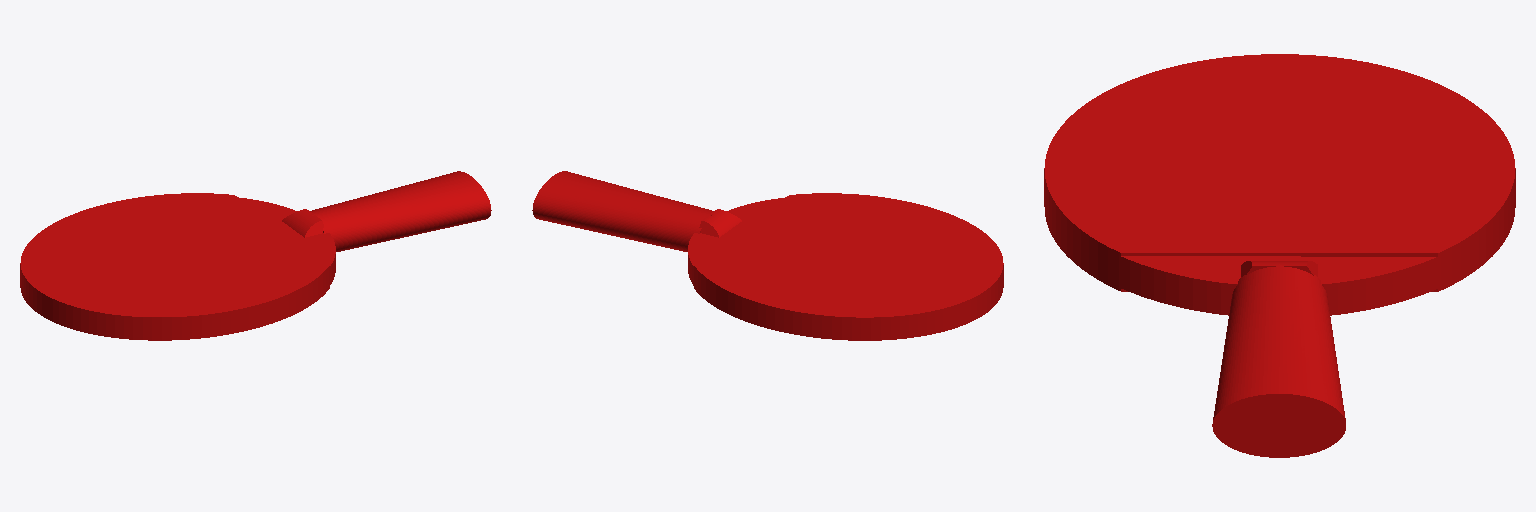
The robot description file, URDF, robot "g1_dual_arm":
<robot name="g1_dual_arm">
  <material name="dark">
    <color rgba="0.2 0.2 0.2 1"/>
  </material>
  <material name="white">
    <color rgba="0.7 0.7 0.7 1"/>
  </material>

  <mujoco>
    <compiler meshdir="meshes" discardvisual="false"/>
  </mujoco>

  <!-- [CAUTION] uncomment when convert to mujoco -->
  <!-- <link name="world"></link>
  <joint name="floating_base_joint" type="floating">
    <parent link="world"/>
    <child link="waist_yaw_link"/>
  </joint> -->

  <!-- Torso -->
  <link name="waist_yaw_link">
    <inertial>
      <origin xyz="0.003964 0 0.018769" rpy="0 0 0"/>
      <mass value="0.244"/>
      <inertia ixx="9.9587E-05" ixy="-1.833E-06" ixz="-1.2617E-05" iyy="0.00012411" iyz="-1.18E-07" izz="0.00015586"/>
    </inertial>
    <visual>
      <origin xyz="0 0 0" rpy="0 0 0"/>
      <geometry>
        <mesh filename="package://g1_description/meshes/waist_yaw_link.STL"/>
      </geometry>
      <material name="white"/>
    </visual>
  </link>
  <link name="waist_roll_link">
    <inertial>
      <origin xyz="0 -0.000236 0.010111" rpy="0 0 0"/>
      <mass value="0.047"/>
      <inertia ixx="7.515E-06" ixy="0" ixz="0" iyy="6.398E-06" iyz="9.9E-08" izz="3.988E-06"/>
    </inertial>
    <visual>
      <origin xyz="0 0 0" rpy="0 0 0"/>
      <geometry>
        <mesh filename="package://g1_description/meshes/waist_roll_link.STL"/>
      </geometry>
      <material name="white"/>
    </visual>
  </link>
  <joint name="waist_roll_joint" type="fixed">
    <origin xyz="-0.0039635 0 0.035" rpy="0 0 0"/>
    <parent link="waist_yaw_link"/>
    <child link="waist_roll_link"/>
    <axis xyz="1 0 0"/>
    <limit lower="-0.52" upper="0.52" effort="35" velocity="30"/>
  </joint>
  <link name="torso_link">
    <inertial>
      <origin xyz="0.002601 0.000257 0.153719" rpy="0 0 0"/>
      <mass value="8.562"/>
      <inertia ixx="0.065674966" ixy="-8.597E-05" ixz="-0.001737252" iyy="0.053535188" iyz="8.6899E-05" izz="0.030808125"/>
    </inertial>
    <visual>
      <origin xyz="0 0 0" rpy="0 0 0"/>
      <geometry>
        <mesh filename="package://g1_description/meshes/torso_link.STL"/>
      </geometry>
      <material name="white"/>
    </visual>
    <collision>
      <origin xyz="0 0 0" rpy="0 0 0"/>
      <geometry>
        <mesh filename="package://g1_description/meshes/torso_link.STL"/>
      </geometry>
    </collision>
  </link>
  <joint name="waist_pitch_joint" type="fixed">
    <origin xyz="0 0 0.019" rpy="0 0 0"/>
    <parent link="waist_roll_link"/>
    <child link="torso_link"/>
    <axis xyz="0 1 0"/>
    <limit lower="-0.52" upper="0.52" effort="35" velocity="30"/>
  </joint>

  <!-- LOGO -->
  <joint name="logo_joint" type="fixed">
    <origin xyz="0.0039635 0 -0.054" rpy="0 0 0"/>
    <parent link="torso_link"/>
    <child link="logo_link"/>
  </joint>
  <link name="logo_link">
    <inertial>
      <origin xyz="0 0 0" rpy="0 0 0"/>
      <mass value="0.001"/>
      <inertia ixx="1e-7" ixy="0" ixz="0" iyy="1e-7" iyz="0" izz="1e-7"/>
    </inertial>
    <visual>
      <origin xyz="0 0 0" rpy="0 0 0"/>
      <geometry>
        <mesh filename="package://g1_description/meshes/logo_link.STL"/>
      </geometry>
      <material name="dark"/>
    </visual>
    <collision>
      <origin xyz="0 0 0" rpy="0 0 0"/>
      <geometry>
        <mesh filename="package://g1_description/meshes/logo_link.STL"/>
      </geometry>
    </collision>
  </link>

  <!-- Head -->
  <link name="head_link">
    <inertial>
      <origin xyz="0.005267 0.000299 0.449869" rpy="0 0 0"/>
      <mass value="1.036"/>
      <inertia ixx="0.004085051" ixy="-2.543E-06" ixz="-6.9455E-05" iyy="0.004185212" iyz="-3.726E-06" izz="0.001807911"/>
    </inertial>
    <visual>
      <origin xyz="0 0 0" rpy="0 0 0"/>
      <geometry>
        <mesh filename="package://g1_description/meshes/head_link.STL"/>
      </geometry>
      <material name="dark"/>
    </visual>
    <collision>
      <origin xyz="0 0 0" rpy="0 0 0"/>
      <geometry>
        <mesh filename="package://g1_description/meshes/head_link.STL"/>
      </geometry>
    </collision>
  </link>
  <joint name="head_joint" type="fixed">
    <origin xyz="0.0039635 0 -0.054" rpy="0 0 0"/>
    <parent link="torso_link"/>
    <child link="head_link"/>
  </joint>

  <!-- Waist Support -->
  <link name="waist_support_link">
    <inertial>
      <origin xyz="0 0 0" rpy="0 0 0"/>
      <mass value="0.001"/>
      <inertia ixx="1e-7" ixy="0" ixz="0" iyy="1e-7" iyz="0" izz="1e-7"/>
    </inertial>
    <visual>
      <origin xyz="0 0 0" rpy="0 0 0"/>
      <geometry>
        <mesh filename="package://g1_description/meshes/waist_support_link.STL"/>
      </geometry>
      <material name="white"/>
    </visual>
    <collision>
      <origin xyz="0 0 0" rpy="0 0 0"/>
      <geometry>
        <mesh filename="package://g1_description/meshes/waist_support_link.STL"/>
      </geometry>
    </collision>
  </link>
  <joint name="waist_support_joint" type="fixed">
    <origin xyz="0.0039635 0 -0.054" rpy="0 0 0"/>
    <parent link="torso_link"/>
    <child link="waist_support_link"/>
  </joint>

  <!-- IMU -->
  <link name="imu_in_torso"></link>
  <joint name="imu_in_torso_joint" type="fixed">
    <origin xyz="-0.03959 -0.00224 0.13792" rpy="0 0 0"/>
    <parent link="torso_link"/>
    <child link="imu_in_torso"/>
  </joint>

  <link name="imu_in_pelvis"></link>
  <joint name="imu_in_pelvis_joint" type="fixed">
    <origin xyz="0.04525 0 -0.08339" rpy="0 0 0"/>
    <parent link="waist_yaw_link"/>
    <child link="imu_in_pelvis"/>
  </joint>

  <!-- d435 -->
  <link name="d435_link"></link>
  <joint name="d435_joint" type="fixed">
    <origin xyz="0.0576235 0.01753 0.41987" rpy="0 0.8307767239493009 0"/>
    <parent link="torso_link"/>
    <child link="d435_link"/>
  </joint>

  <!-- mid360 -->
  <link name="mid360_link"></link>
  <joint name="mid360_joint" type="fixed">
    <origin xyz="0.0002835 0.00003 0.40618" rpy="0 0.04014257279586953 0"/>
    <parent link="torso_link"/>
    <child link="mid360_link"/>
  </joint>

  <!-- Arm -->
  <link name="left_shoulder_pitch_link">
    <inertial>
      <origin xyz="0 0.035892 -0.011628" rpy="0 0 0"/>
      <mass value="0.718"/>
      <inertia ixx="0.0004291" ixy="-9.2E-06" ixz="6.4E-06" iyy="0.000453" iyz="2.26E-05" izz="0.000423"/>
    </inertial>
    <visual>
      <origin xyz="0 0 0" rpy="0 0 0"/>
      <geometry>
        <mesh filename="package://g1_description/meshes/left_shoulder_pitch_link.STL"/>
      </geometry>
      <material name="white"/>
    </visual>
    <collision>
      <origin xyz="0 0.04 -0.01" rpy="0 1.5707963267948966 0"/>
      <geometry>
        <cylinder radius="0.03" length="0.05"/>
      </geometry>
    </collision>
  </link>
  <joint name="left_shoulder_pitch_joint" type="revolute">
    <origin xyz="0.0039563 0.10022 0.23778" rpy="0.27931 5.4949E-05 -0.00019159"/>
    <parent link="torso_link"/>
    <child link="left_shoulder_pitch_link"/>
    <axis xyz="0 1 0"/>
    <limit lower="-3.0892" upper="2.6704" effort="25" velocity="37"/>
  </joint>
  <link name="left_shoulder_roll_link">
    <inertial>
      <origin xyz="-0.000227 0.00727 -0.063243" rpy="0 0 0"/>
      <mass value="0.643"/>
      <inertia ixx="0.0006177" ixy="-1E-06" ixz="8.7E-06" iyy="0.0006912" iyz="-5.3E-06" izz="0.0003894"/>
    </inertial>
    <visual>
      <origin xyz="0 0 0" rpy="0 0 0"/>
      <geometry>
        <mesh filename="package://g1_description/meshes/left_shoulder_roll_link.STL"/>
      </geometry>
      <material name="white"/>
    </visual>
    <collision>
      <origin xyz="-0.004 0.006 -0.053" rpy="0 0 0"/>
      <geometry>
        <cylinder radius="0.03" length="0.03"/>
      </geometry>
    </collision>
  </link>
  <joint name="left_shoulder_roll_joint" type="revolute">
    <origin xyz="0 0.038 -0.013831" rpy="-0.27925 0 0"/>
    <parent link="left_shoulder_pitch_link"/>
    <child link="left_shoulder_roll_link"/>
    <axis xyz="1 0 0"/>
    <limit lower="-1.5882" upper="2.2515" effort="25" velocity="37"/>
  </joint>
  <link name="left_shoulder_yaw_link">
    <inertial>
      <origin xyz="0.010773 -0.002949 -0.072009" rpy="0 0 0"/>
      <mass value="0.734"/>
      <inertia ixx="0.0009988" ixy="7.9E-06" ixz="0.0001412" iyy="0.0010605" iyz="-2.86E-05" izz="0.0004354"/>
    </inertial>
    <visual>
      <origin xyz="0 0 0" rpy="0 0 0"/>
      <geometry>
        <mesh filename="package://g1_description/meshes/left_shoulder_yaw_link.STL"/>
      </geometry>
      <material name="white"/>
    </visual>
    <collision>
      <origin xyz="0 0 0" rpy="0 0 0"/>
      <geometry>
        <mesh filename="package://g1_description/meshes/left_shoulder_yaw_link.STL"/>
      </geometry>
    </collision>
  </link>
  <joint name="left_shoulder_yaw_joint" type="revolute">
    <origin xyz="0 0.00624 -0.1032" rpy="0 0 0"/>
    <parent link="left_shoulder_roll_link"/>
    <child link="left_shoulder_yaw_link"/>
    <axis xyz="0 0 1"/>
    <limit lower="-2.618" upper="2.618" effort="25" velocity="37"/>
  </joint>
  <link name="left_elbow_link">
    <inertial>
      <origin xyz="0.064956 0.004454 -0.010062" rpy="0 0 0"/>
      <mass value="0.6"/>
      <inertia ixx="0.0002891" ixy="6.53E-05" ixz="1.72E-05" iyy="0.0004152" iyz="-5.6E-06" izz="0.0004197"/>
    </inertial>
    <visual>
      <origin xyz="0 0 0" rpy="0 0 0"/>
      <geometry>
        <mesh filename="package://g1_description/meshes/left_elbow_link.STL"/>
      </geometry>
      <material name="white"/>
    </visual>
    <collision>
      <origin xyz="0 0 0" rpy="0 0 0"/>
      <geometry>
        <mesh filename="package://g1_description/meshes/left_elbow_link.STL"/>
      </geometry>
    </collision>
  </link>
  <joint name="left_elbow_joint" type="revolute">
    <origin xyz="0.015783 0 -0.080518" rpy="0 0 0"/>
    <parent link="left_shoulder_yaw_link"/>
    <child link="left_elbow_link"/>
    <axis xyz="0 1 0"/>
    <limit lower="-1.0472" upper="2.0944" effort="25" velocity="37"/>
  </joint>
  <joint name="left_wrist_roll_joint" type="revolute">
    <origin xyz="0.100 0.00188791 -0.010" rpy="0 0 0"/>
    <axis xyz="1 0 0"/>
    <parent link="left_elbow_link"/>
    <child link="left_wrist_roll_link"/>
    <limit effort="25" velocity="37" lower="-1.972222054" upper="1.972222054"/>
  </joint>
  <link name="left_wrist_roll_link">
    <inertial>
      <origin xyz="0.01713944778 0.00053759094 0.00000048864" rpy="0 0 0"/>
      <mass value="0.08544498"/>
      <inertia ixx="0.00004821544023" ixy="-0.00000424511021" ixz="0.00000000510599" iyy="0.00003722899093" iyz="-0.00000000123525" izz="0.00005482106541"/>
    </inertial>
    <visual>
      <origin xyz="0 0 0" rpy="0 0 0"/>
      <geometry>
        <mesh filename="package://g1_description/meshes/left_wrist_roll_link.STL"/>
      </geometry>
      <material name="white"/>
    </visual>
    <collision>
      <origin xyz="0 0 0" rpy="0 0 0"/>
      <geometry>
        <mesh filename="package://g1_description/meshes/left_wrist_roll_link.STL"/>
      </geometry>
    </collision>
  </link>
  <joint name="left_wrist_pitch_joint" type="revolute">
    <origin xyz="0.038 0 0" rpy="0 0 0"/>
    <axis xyz="0 1 0"/>
    <parent link="left_wrist_roll_link"/>
    <child link="left_wrist_pitch_link"/>
    <limit effort="5" velocity="22" lower="-1.614429558" upper="1.614429558"/>
  </joint>
  <link name="left_wrist_pitch_link">
    <inertial>
      <origin xyz="0.02299989837 -0.00111685314 -0.00111658096" rpy="0 0 0"/>
      <mass value="0.48404956"/>
      <inertia ixx="0.00016579646273" ixy="-0.00001231206746" ixz="0.00001231699194" iyy="0.00042954057410" iyz="0.00000081417712" izz="0.00042953697654"/>
    </inertial>
    <visual>
      <origin xyz="0 0 0" rpy="0 0 0"/>
      <geometry>
        <mesh filename="package://g1_description/meshes/left_wrist_pitch_link.STL"/>
      </geometry>
      <material name="white"/>
    </visual>
    <collision>
      <origin xyz="0 0 0" rpy="0 0 0"/>
      <geometry>
        <mesh filename="package://g1_description/meshes/left_wrist_pitch_link.STL"/>
      </geometry>
    </collision>
  </link>
  <joint name="left_wrist_yaw_joint" type="revolute">
    <origin xyz="0.046 0 0" rpy="0 0 0"/>
    <axis xyz="0 0 1"/>
    <parent link="left_wrist_pitch_link"/>
    <child link="left_wrist_yaw_link"/>
    <limit effort="5" velocity="22" lower="-1.614429558" upper="1.614429558"/>
  </joint>
  <link name="left_wrist_yaw_link">
    <inertial>
      <origin xyz="0.02200381568 0.00049485096 0.00053861123" rpy="0 0 0"/>
      <mass value="0.08457647"/>
      <inertia ixx="0.00004929128828" ixy="-0.00000045735494" ixz="0.00000445867591" iyy="0.00005973338134" iyz="0.00000043217198" izz="0.00003928083826"/>
    </inertial>
    <visual>
      <origin xyz="0 0 0" rpy="0 0 0"/>
      <geometry>
        <mesh filename="package://g1_description/meshes/left_wrist_yaw_link.STL"/>
      </geometry>
      <material name="white"/>
    </visual>
    <collision>
      <origin xyz="0 0 0" rpy="0 0 0"/>
      <geometry>
        <mesh filename="package://g1_description/meshes/left_wrist_yaw_link.STL"/>
      </geometry>
    </collision>
  </link>
  <joint name="left_hand_palm_joint" type="fixed">
    <origin xyz="0.0415 0.003 0" rpy="0 0 0"/>
    <parent link="left_wrist_yaw_link"/>
    <child link="left_rubber_hand"/>
  </joint>
  <link name="left_rubber_hand">
    <inertial>
      <origin xyz="0.05361310808 -0.00295905240 0.00215413091" rpy="0 0 0"/>
      <mass value="0.170"/>
      <inertia ixx="0.00010099485234748" ixy="0.00003618590790516" ixz="-0.00000074301518642" iyy="0.00028135871571621" iyz="0.00000330189743286" izz="0.00021894770413514"/>
    </inertial>
    <visual>
      <origin xyz="0 0 0" rpy="0 0 0"/>
      <geometry>
        <mesh filename="package://g1_description/meshes/left_rubber_hand.STL"/>
      </geometry>
      <material name="white"/>
    </visual>
  </link>

  <link name="left_paddle">
    <inertial>
      <origin xyz="0 0 0" rpy="0 0 0"/>
      <!-- ~0.18 kg is a typical paddle mass -->
      <mass value="0.18"/>
      <inertia
        ixx="0.0008" ixy="0.0"   ixz="0.0"
        iyy="0.0012" iyz="0.0"
        izz="0.0006"/>
    </inertial>

    <visual>
      <origin xyz="0 0 0" rpy="0 0 0"/>
      <geometry>
        <mesh filename="package://g1_description/meshes/left_paddle.STL"/>
      </geometry>
      <material name="paddle_color">
        <color rgba="0.8 0.1 0.1 1.0"/>
      </material>
    </visual>

    <collision>
      <origin xyz="0 0 0" rpy="0 0 0"/>
      <geometry>
        <box size="0.28 0.02 0.16"/>
      </geometry>
    </collision>
  </link>

  <joint name="left_hand_to_pingpong_paddle" type="fixed">
    <parent link="left_rubber_hand"/>
    <child link="left_paddle"/>
    <!-- Adjust these numbers to seat the handle correctly -->
    <origin xyz="0.10 0.00 0.00" rpy="0 0 1.57"/>
  </joint>


  <link name="right_shoulder_pitch_link">
    <inertial>
      <origin xyz="0 -0.035892 -0.011628" rpy="0 0 0"/>
      <mass value="0.718"/>
      <inertia ixx="0.0004291" ixy="9.2E-06" ixz="6.4E-06" iyy="0.000453" iyz="-2.26E-05" izz="0.000423"/>
    </inertial>
    <visual>
      <origin xyz="0 0 0" rpy="0 0 0"/>
      <geometry>
        <mesh filename="package://g1_description/meshes/right_shoulder_pitch_link.STL"/>
      </geometry>
      <material name="white"/>
    </visual>
    <collision>
      <origin xyz="0 -0.04 -0.01" rpy="0 1.5707963267948966 0"/>
      <geometry>
        <cylinder radius="0.03" length="0.05"/>
      </geometry>
    </collision>
  </link>
  <joint name="right_shoulder_pitch_joint" type="revolute">
    <origin xyz="0.0039563 -0.10021 0.23778" rpy="-0.27931 5.4949E-05 0.00019159"/>
    <parent link="torso_link"/>
    <child link="right_shoulder_pitch_link"/>
    <axis xyz="0 1 0"/>
    <limit lower="-3.0892" upper="2.6704" effort="25" velocity="37"/>
  </joint>
  <link name="right_shoulder_roll_link">
    <inertial>
      <origin xyz="-0.000227 -0.00727 -0.063243" rpy="0 0 0"/>
      <mass value="0.643"/>
      <inertia ixx="0.0006177" ixy="1E-06" ixz="8.7E-06" iyy="0.0006912" iyz="5.3E-06" izz="0.0003894"/>
    </inertial>
    <visual>
      <origin xyz="0 0 0" rpy="0 0 0"/>
      <geometry>
        <mesh filename="package://g1_description/meshes/right_shoulder_roll_link.STL"/>
      </geometry>
      <material name="white"/>
    </visual>
    <collision>
      <origin xyz="-0.004 -0.006 -0.053" rpy="0 0 0"/>
      <geometry>
        <cylinder radius="0.03" length="0.03"/>
      </geometry>
    </collision>
  </link>
  <joint name="right_shoulder_roll_joint" type="revolute">
    <origin xyz="0 -0.038 -0.013831" rpy="0.27925 0 0"/>
    <parent link="right_shoulder_pitch_link"/>
    <child link="right_shoulder_roll_link"/>
    <axis xyz="1 0 0"/>
    <limit lower="-2.2515" upper="1.5882" effort="25" velocity="37"/>
  </joint>
  <link name="right_shoulder_yaw_link">
    <inertial>
      <origin xyz="0.010773 0.002949 -0.072009" rpy="0 0 0"/>
      <mass value="0.734"/>
      <inertia ixx="0.0009988" ixy="-7.9E-06" ixz="0.0001412" iyy="0.0010605" iyz="2.86E-05" izz="0.0004354"/>
    </inertial>
    <visual>
      <origin xyz="0 0 0" rpy="0 0 0"/>
      <geometry>
        <mesh filename="package://g1_description/meshes/right_shoulder_yaw_link.STL"/>
      </geometry>
      <material name="white"/>
    </visual>
    <collision>
      <origin xyz="0 0 0" rpy="0 0 0"/>
      <geometry>
        <mesh filename="package://g1_description/meshes/right_shoulder_yaw_link.STL"/>
      </geometry>
    </collision>
  </link>
  <joint name="right_shoulder_yaw_joint" type="revolute">
    <origin xyz="0 -0.00624 -0.1032" rpy="0 0 0"/>
    <parent link="right_shoulder_roll_link"/>
    <child link="right_shoulder_yaw_link"/>
    <axis xyz="0 0 1"/>
    <limit lower="-2.618" upper="2.618" effort="25" velocity="37"/>
  </joint>
  <link name="right_elbow_link">
    <inertial>
      <origin xyz="0.064956 -0.004454 -0.010062" rpy="0 0 0"/>
      <mass value="0.6"/>
      <inertia ixx="0.0002891" ixy="-6.53E-05" ixz="1.72E-05" iyy="0.0004152" iyz="5.6E-06" izz="0.0004197"/>
    </inertial>
    <visual>
      <origin xyz="0 0 0" rpy="0 0 0"/>
      <geometry>
        <mesh filename="package://g1_description/meshes/right_elbow_link.STL"/>
      </geometry>
      <material name="white"/>
    </visual>
    <collision>
      <origin xyz="0 0 0" rpy="0 0 0"/>
      <geometry>
        <mesh filename="package://g1_description/meshes/right_elbow_link.STL"/>
      </geometry>
    </collision>
  </link>
  <joint name="right_elbow_joint" type="revolute">
    <origin xyz="0.015783 0 -0.080518" rpy="0 0 0"/>
    <parent link="right_shoulder_yaw_link"/>
    <child link="right_elbow_link"/>
    <axis xyz="0 1 0"/>
    <limit lower="-1.0472" upper="2.0944" effort="25" velocity="37"/>
  </joint>
  <joint name="right_wrist_roll_joint" type="revolute">
    <origin xyz="0.100 -0.00188791 -0.010" rpy="0 0 0"/>
    <axis xyz="1 0 0"/>
    <parent link="right_elbow_link"/>
    <child link="right_wrist_roll_link"/>
    <limit effort="25" velocity="37" lower="-1.972222054" upper="1.972222054"/>
  </joint>
  <link name="right_wrist_roll_link">
    <inertial>
      <origin xyz="0.01713944778 -0.00053759094 0.00000048864" rpy="0 0 0"/>
      <mass value="0.08544498"/>
      <inertia ixx="0.00004821544023" ixy="0.00000424511021" ixz="0.00000000510599" iyy="0.00003722899093" iyz="0.00000000123525" izz="0.00005482106541"/>
    </inertial>
    <visual>
      <origin xyz="0 0 0" rpy="0 0 0"/>
      <geometry>
        <mesh filename="package://g1_description/meshes/right_wrist_roll_link.STL"/>
      </geometry>
      <material name="white"/>
    </visual>
    <collision>
      <origin xyz="0 0 0" rpy="0 0 0"/>
      <geometry>
        <mesh filename="package://g1_description/meshes/right_wrist_roll_link.STL"/>
      </geometry>
    </collision>
  </link>
  <joint name="right_wrist_pitch_joint" type="revolute">
    <origin xyz="0.038 0 0" rpy="0 0 0"/>
    <axis xyz="0 1 0"/>
    <parent link="right_wrist_roll_link"/>
    <child link="right_wrist_pitch_link"/>
    <limit effort="5" velocity="22" lower="-1.614429558" upper="1.614429558"/>
  </joint>
  <link name="right_wrist_pitch_link">
    <inertial>
      <origin xyz="0.02299989837 0.00111685314 -0.00111658096" rpy="0 0 0"/>
      <mass value="0.48404956"/>
      <inertia ixx="0.00016579646273" ixy="0.00001231206746" ixz="0.00001231699194" iyy="0.00042954057410" iyz="-0.00000081417712" izz="0.00042953697654"/>
    </inertial>
    <visual>
      <origin xyz="0 0 0" rpy="0 0 0"/>
      <geometry>
        <mesh filename="package://g1_description/meshes/right_wrist_pitch_link.STL"/>
      </geometry>
      <material name="white"/>
    </visual>
    <collision>
      <origin xyz="0 0 0" rpy="0 0 0"/>
      <geometry>
        <mesh filename="package://g1_description/meshes/right_wrist_pitch_link.STL"/>
      </geometry>
    </collision>
  </link>
  <joint name="right_wrist_yaw_joint" type="revolute">
    <origin xyz="0.046 0 0" rpy="0 0 0"/>
    <axis xyz="0 0 1"/>
    <parent link="right_wrist_pitch_link"/>
    <child link="right_wrist_yaw_link"/>
    <limit effort="5" velocity="22" lower="-1.614429558" upper="1.614429558"/>
  </joint>
  <link name="right_wrist_yaw_link">
    <inertial>
      <origin xyz="0.02200381568 -0.00049485096 0.00053861123" rpy="0 0 0"/>
      <mass value="0.08457647"/>
      <inertia ixx="0.00004929128828" ixy="0.00000045735494" ixz="0.00000445867591" iyy="0.00005973338134" iyz="-0.00000043217198" izz="0.00003928083826"/>
    </inertial>
    <visual>
      <origin xyz="0 0 0" rpy="0 0 0"/>
      <geometry>
        <mesh filename="package://g1_description/meshes/right_wrist_yaw_link.STL"/>
      </geometry>
      <material name="white"/>
    </visual>
    <collision>
      <origin xyz="0 0 0" rpy="0 0 0"/>
      <geometry>
        <mesh filename="package://g1_description/meshes/right_wrist_yaw_link.STL"/>
      </geometry>
    </collision>
  </link>
  <joint name="right_hand_palm_joint" type="fixed">
    <origin xyz="0.0415 -0.003 0" rpy="0 0 0"/>
    <parent link="right_wrist_yaw_link"/>
    <child link="right_rubber_hand"/>
  </joint>
  <link name="right_rubber_hand">
    <inertial>
      <origin xyz="0.05361310808 0.00295905240 0.00215413091" rpy="0 0 0"/>
      <mass value="0.170"/>
      <inertia ixx="0.00010099485234748" ixy="-0.00003618590790516" ixz="-0.00000074301518642" iyy="0.00028135871571621" iyz="-0.00000330189743286" izz="0.00021894770413514"/>
    </inertial>
    <visual>
      <origin xyz="0 0 0" rpy="0 0 0"/>
      <geometry>
        <mesh filename="package://g1_description/meshes/right_rubber_hand.STL"/>
      </geometry>
      <material name="white"/>
    </visual>
  </link>
</robot>

--- Facts derived from the render (not from the file) ---
Views: 3 orthographic renders of the robot side by side, from view 1: azimuth 30°, elevation 25°; view 2: azimuth 150°, elevation 25°; view 3: azimuth 270°, elevation 25°.
Model g1_dual_arm with 27 links and 26 joints (14 revolute, 12 fixed), rooted at waist_yaw_link, posed every joint at zero.
Visible links, largest first — view 1: left_paddle; view 2: left_paddle; view 3: left_paddle.
Boxes of the visible links, x1,y1,x2,y2 form: left_paddle: [20, 171, 491, 340]; left_paddle: [532, 171, 1003, 340]; left_paddle: [1044, 54, 1515, 457].
Bounding box of the posed robot: 114 × 64.35 × 9.67 m (x, y, z).
1 mesh visuals loaded from 23 distinct referenced files (1 binary STL); not drawn: 22 (reference not matched to a file when rendering).